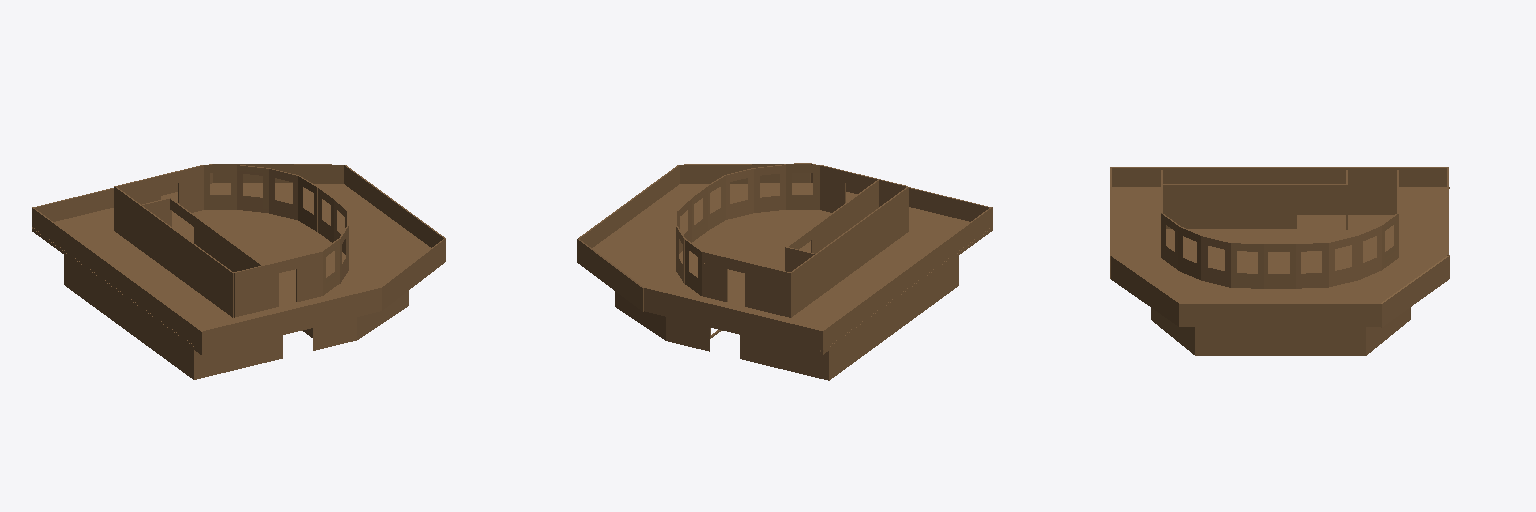
Rendered from House.obj.
The picture shows the model from 3 angles: view 1: azimuth 30°, elevation 25°; view 2: azimuth 150°, elevation 25°; view 3: azimuth 270°, elevation 25°; orthographic projection.
Visible parts, largest first — view 1: House; view 2: House; view 3: House.
Part boxes in pixels (bbox=[...]): House: bbox=[32, 164, 445, 379]; House: bbox=[577, 163, 992, 380]; House: bbox=[1110, 167, 1449, 355].
Bounding box in the file's own units: 19 × 6 × 20.07.